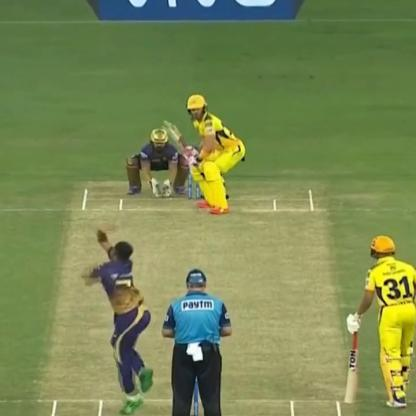bat: (339, 314, 361, 408), (159, 115, 196, 165)
pitch: (45, 183, 362, 416)
